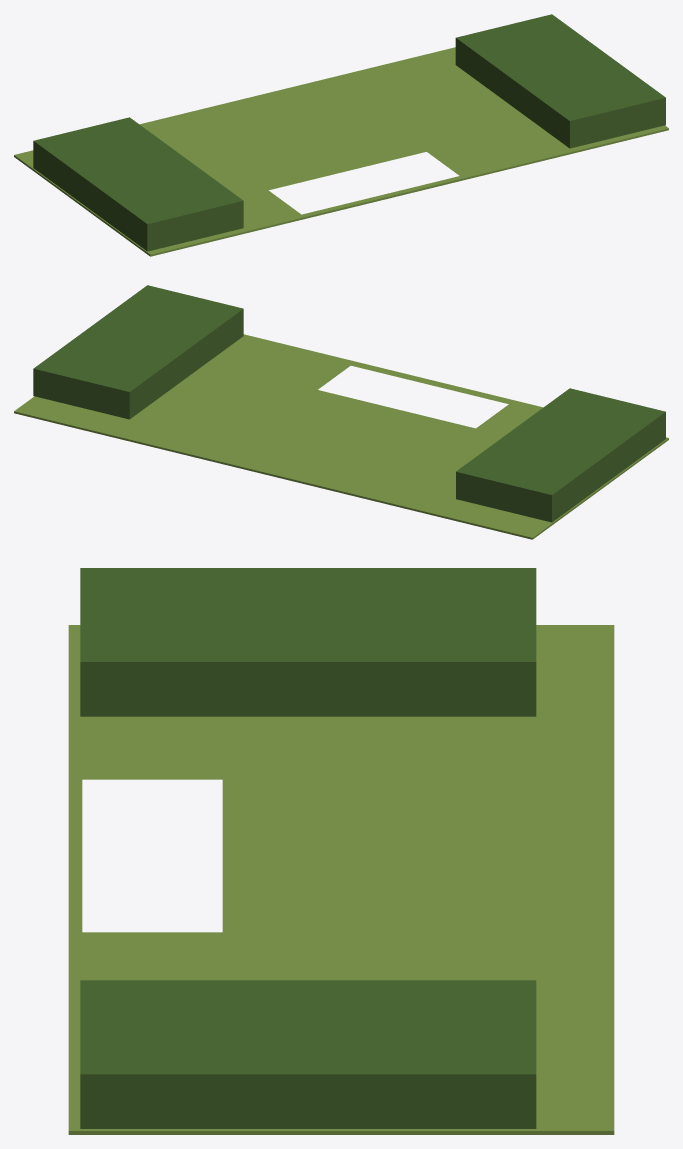
File: context_v1.glb
3 views of the same model, one above another, from view 1: azimuth 30°, elevation 25°; view 2: azimuth 150°, elevation 25°; view 3: azimuth 270°, elevation 25° (orthographic). The views are drawn at different scales.
Visible parts, largest first — view 1: CONTEXT_lawn_beyond_plot (NOT PLOT), HEDGE_context_rear_right, HEDGE_context_rear_left; view 2: CONTEXT_lawn_beyond_plot (NOT PLOT), HEDGE_context_rear_right, HEDGE_context_rear_left; view 3: CONTEXT_lawn_beyond_plot (NOT PLOT), HEDGE_context_rear_left, HEDGE_context_rear_right.
Part boxes in pixels (x1,y1,x2,y2): CONTEXT_lawn_beyond_plot (NOT PLOT): (14, 47, 668, 256); HEDGE_context_rear_right: (455, 14, 665, 148); HEDGE_context_rear_left: (33, 117, 243, 251); CONTEXT_lawn_beyond_plot (NOT PLOT): (14, 334, 668, 539); HEDGE_context_rear_right: (33, 285, 243, 419); HEDGE_context_rear_left: (456, 388, 665, 522); CONTEXT_lawn_beyond_plot (NOT PLOT): (68, 625, 614, 1134); HEDGE_context_rear_left: (80, 568, 536, 716); HEDGE_context_rear_right: (80, 980, 536, 1128).
Size of what is drawn, in the model's own units: 30.73 by 1.72 by 14.
